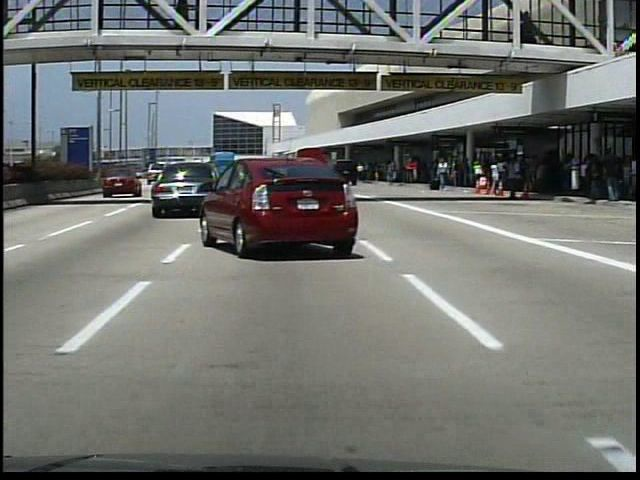person: (502, 151, 527, 204), (436, 157, 453, 193), (175, 1, 192, 32), (407, 158, 419, 185), (356, 163, 366, 182)
